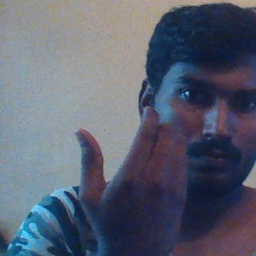U: (73, 104, 190, 239)
